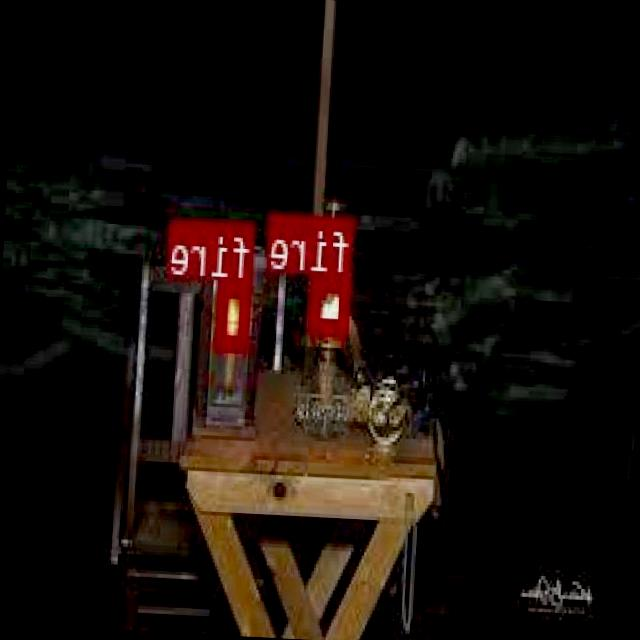fire: (312, 271, 353, 334), (219, 280, 252, 348)
